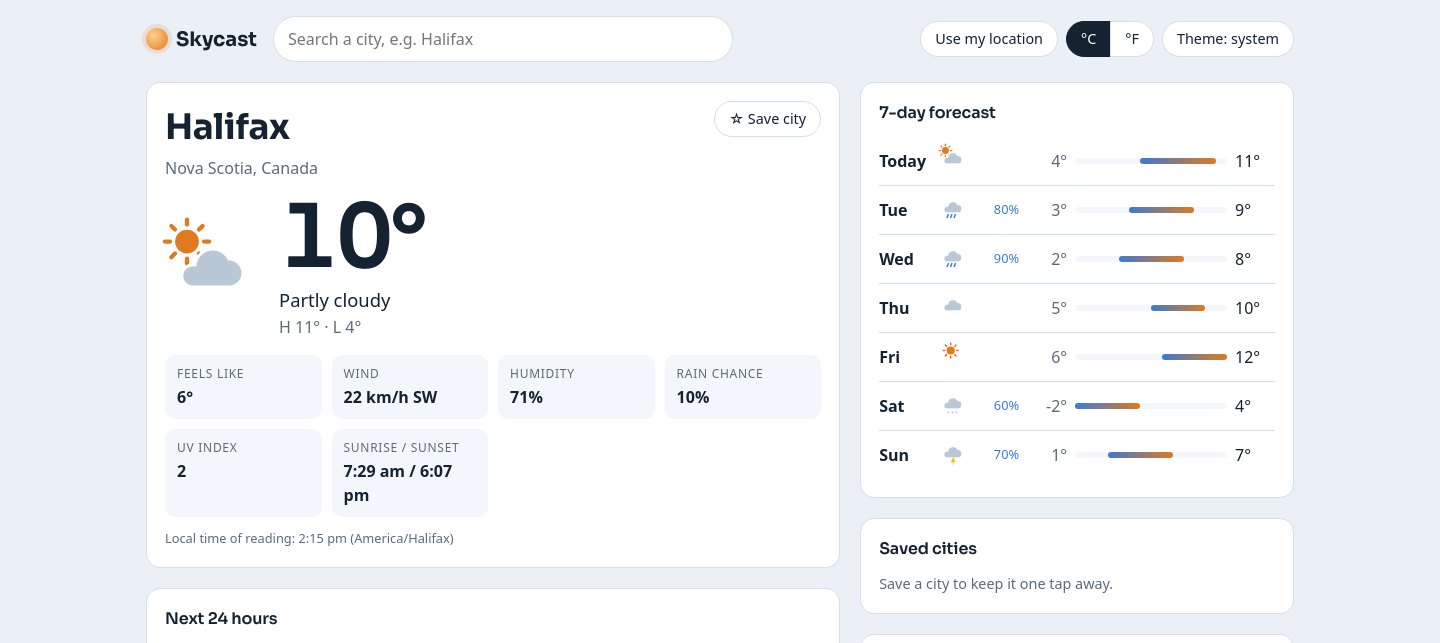
it: App › switches to Fahrenheit and remembers it
expect the text named "Temperature 10°" is shown: met, box x1=279 y1=194 x2=423 y2=282
Click the button "°F" at {"x": 1132, "y": 39}, box x1=1110 y1=21 x2=1154 y2=57
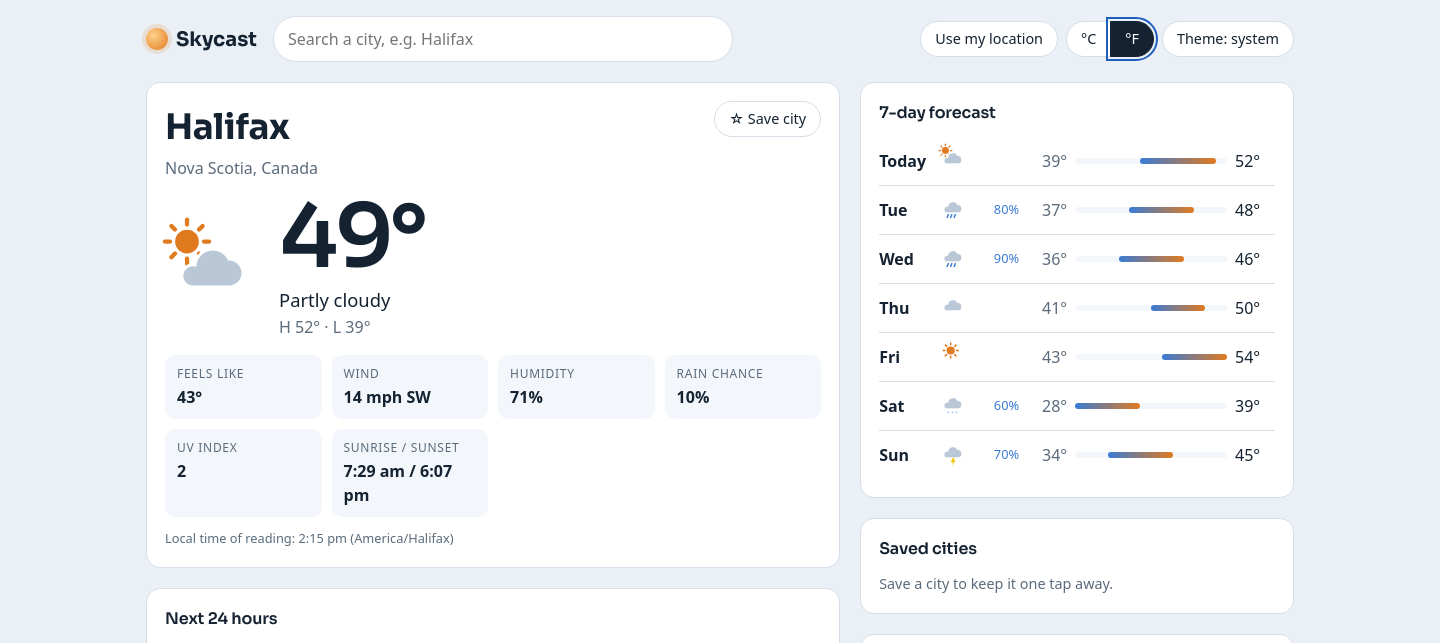
expect the text named "Temperature 49°" is shown: met, box x1=279 y1=194 x2=423 y2=282
